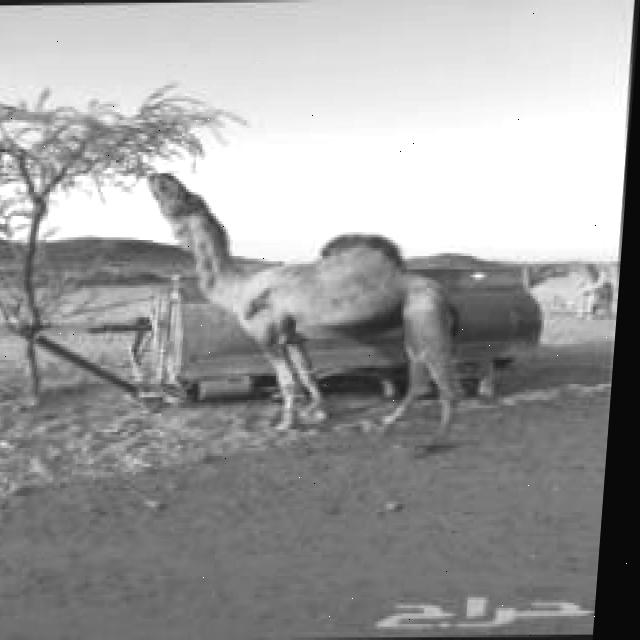Camel: (125, 168, 478, 440)
